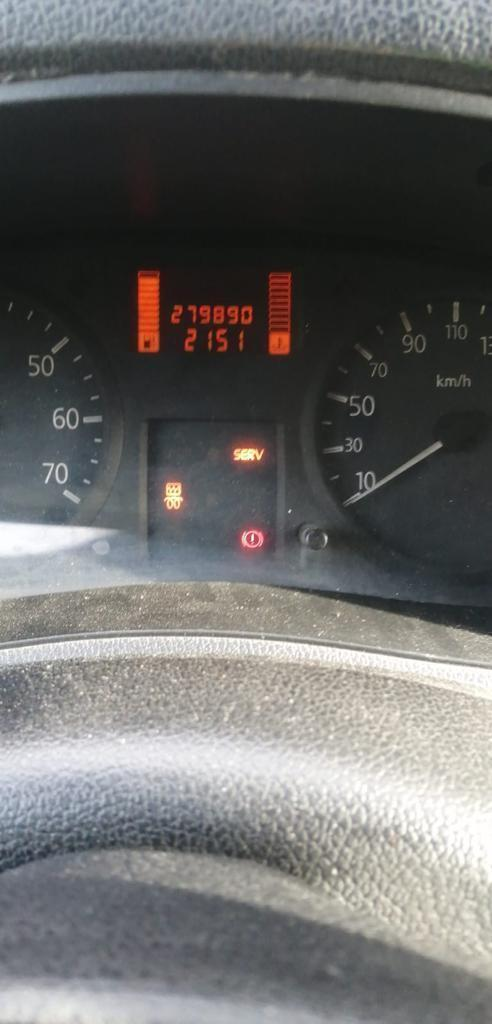0: (241, 305, 253, 325)
1: (237, 329, 245, 352), (206, 329, 211, 352)
2: (183, 327, 197, 351), (171, 303, 183, 325)
5: (215, 328, 231, 353)
7: (188, 303, 197, 324)
8: (213, 304, 224, 323)
9: (199, 304, 210, 324), (227, 305, 237, 324)
odometer: (125, 260, 304, 360)
